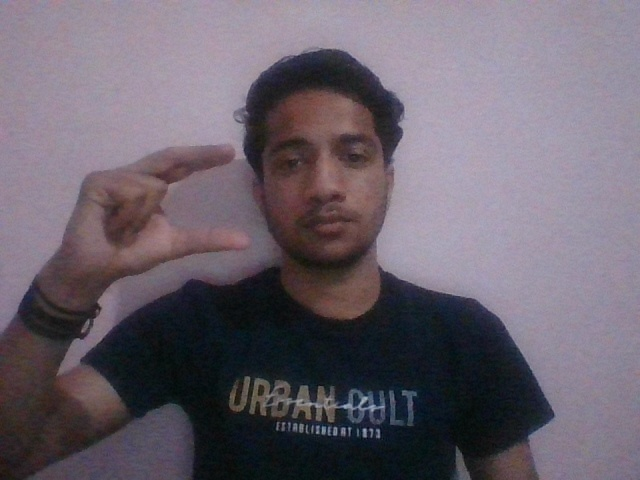no: (39, 141, 258, 277)
